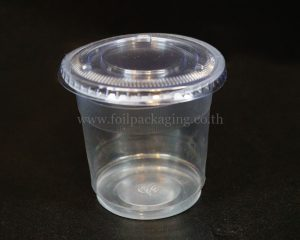plastic_glass: (55, 27, 237, 225)
